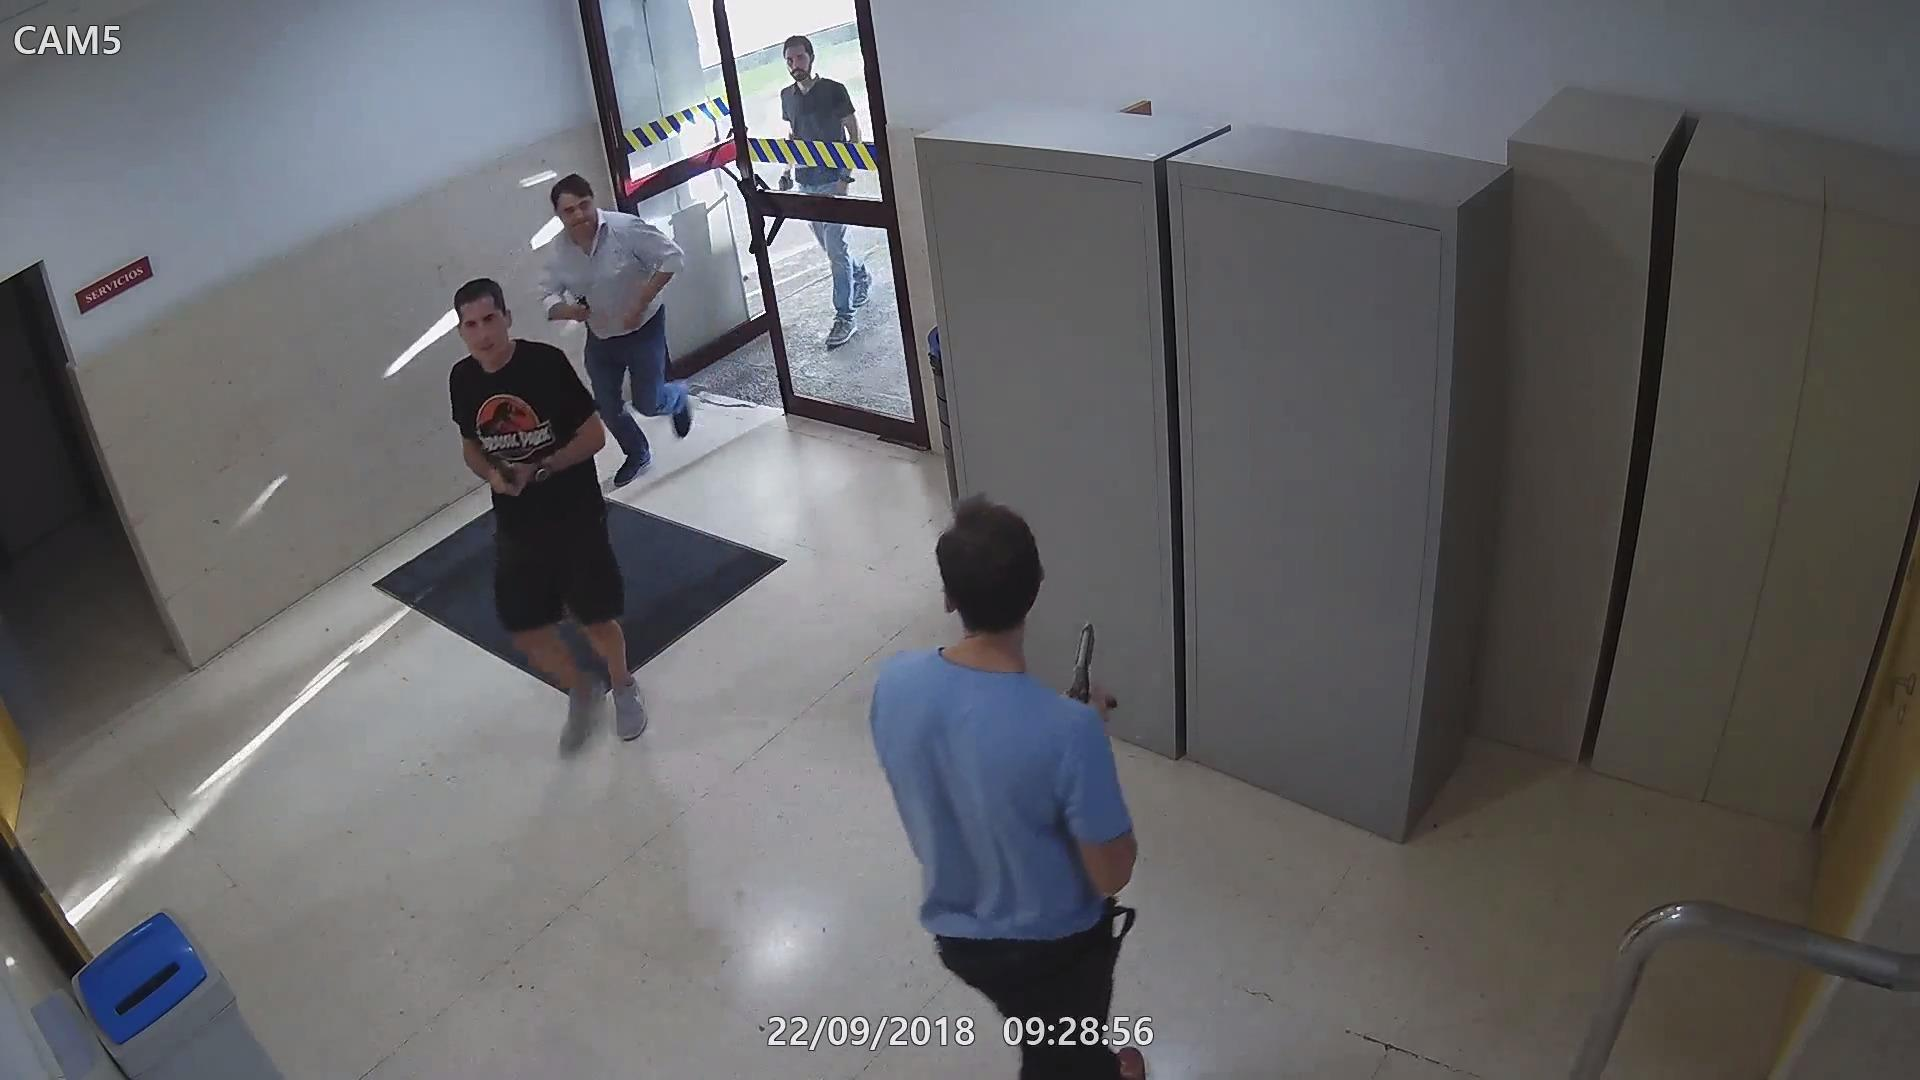Handgun: (1055, 612, 1112, 716), (480, 442, 521, 496), (567, 294, 593, 323), (778, 165, 793, 193)
